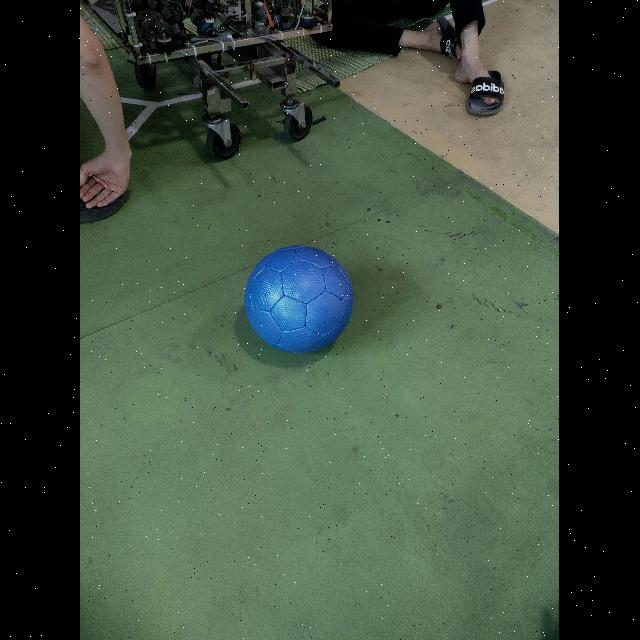B: (243, 245, 356, 357)
